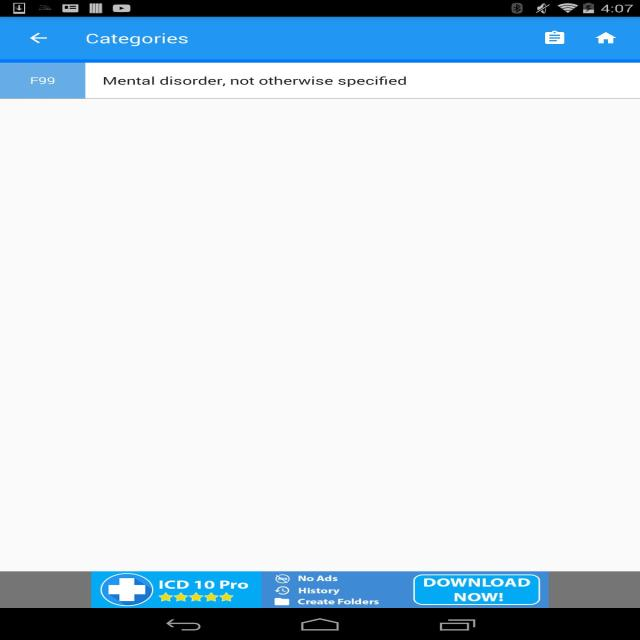button: (2, 62, 640, 98), (540, 28, 569, 47), (596, 29, 618, 47), (30, 28, 50, 47)
heading: (82, 31, 192, 48)
iframe: (93, 572, 550, 608)
text: (97, 74, 413, 88), (27, 74, 59, 87)
